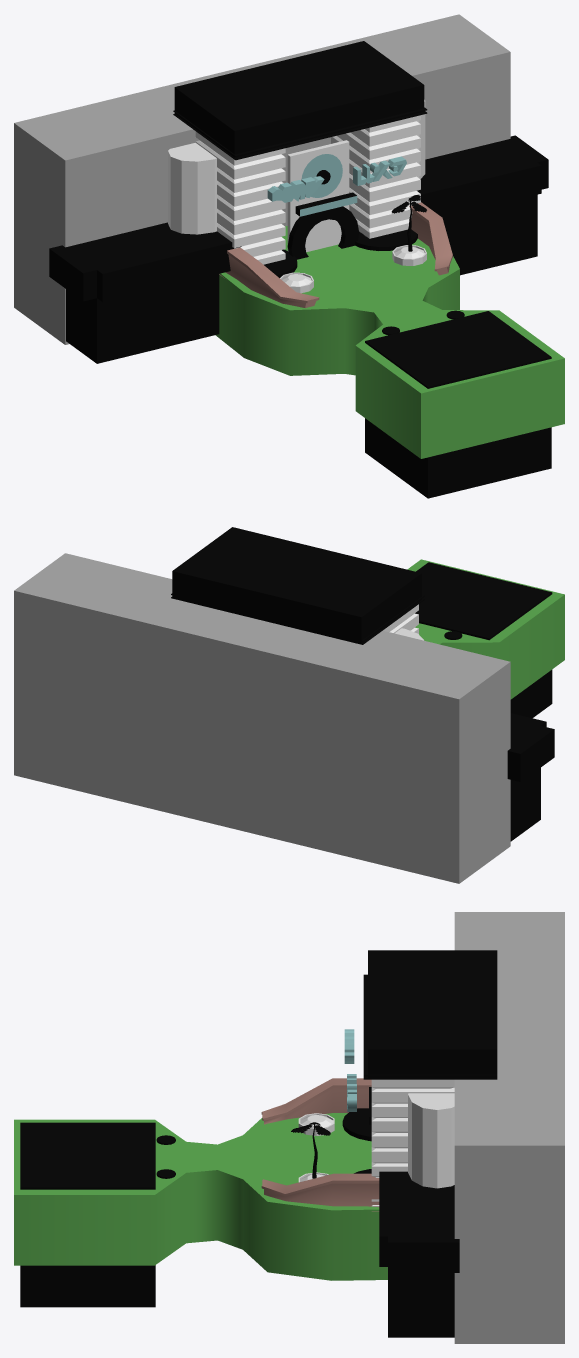
Rendered from RnC WB export.fbx.
3 renders of one model, top to bottom at view 1: azimuth 30°, elevation 25°; view 2: azimuth 150°, elevation 25°; view 3: azimuth 270°, elevation 25°, orthographic. The views are drawn at different scales.
Parts seen in each view (by area): view 1: Back_cube, Floor, LeftBackWall, Pillar_Roof, StartRoom, Pillars, pasted__pCube7, pasted__pCylinder2, Barrier, ClockBack, Door, pCylinder7 (+5 smaller); view 2: Back_cube, Pillar_Roof, StartRoom, Floor, LeftBackWall, Pillars; view 3: Back_cube, Floor, Pillar_Roof, StartRoom, pasted__pCube7, Barrier, CylinderTower, Pillars, pCylinder7, pCylinder1.
Boxes of the visible parts, x1,y1,x2,y2 form: Back_cube: (14,14,510,344); Floor: (215,226,564,458); LeftBackWall: (49,222,241,363); Pillar_Roof: (173,41,427,160); StartRoom: (365,311,551,498); Pillars: (195,115,420,264); pasted__pCube7: (417,135,548,275); pasted__pCylinder2: (168,142,218,234); Barrier: (219,202,452,307); ClockBack: (287,140,349,252); Door: (287,206,359,259); pCylinder7: (264,229,417,277); Back_cube: (14,553,510,883); Pillar_Roof: (171,527,424,644); StartRoom: (415,562,552,718); Floor: (407,559,564,699); LeftBackWall: (507,713,554,841); Pillars: (383,604,418,633); Back_cube: (454,912,564,1343); Floor: (14,1113,387,1280); Pillar_Roof: (363,950,497,1079); StartRoom: (20,1122,155,1307); pasted__pCube7: (379,1171,459,1337); Barrier: (261,1078,379,1211); CylinderTower: (408,1093,454,1188); Pillars: (371,1079,454,1206); pCylinder7: (342,1108,371,1173); pCylinder1: (298,1113,334,1182).
Size of the model in its own units: 59.42 by 31.31 by 56.69.
